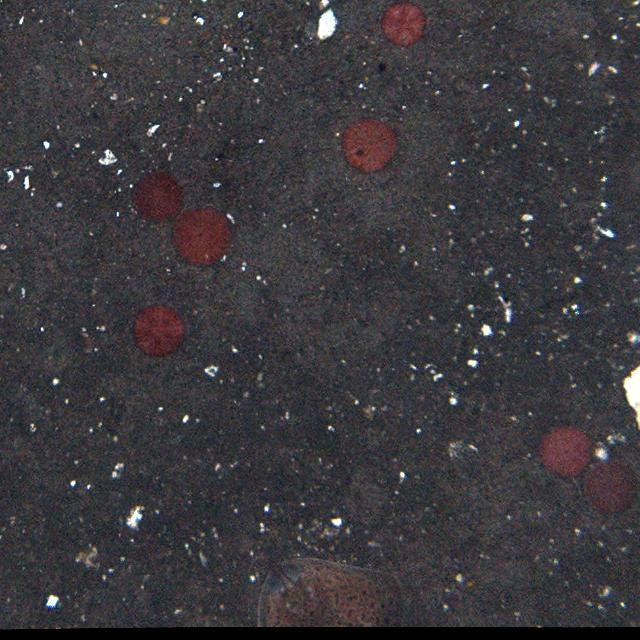skate: (244, 553, 403, 626)
